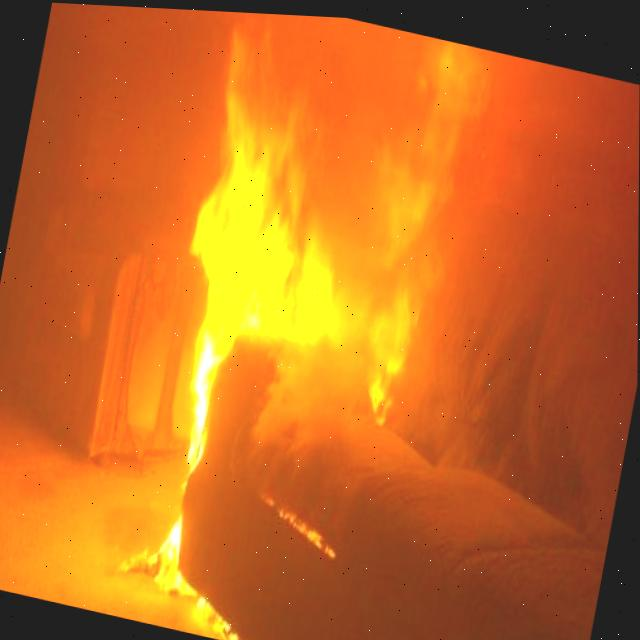fire: (188, 31, 336, 466), (118, 517, 238, 640), (368, 287, 413, 420)
smoke: (0, 2, 640, 542)
